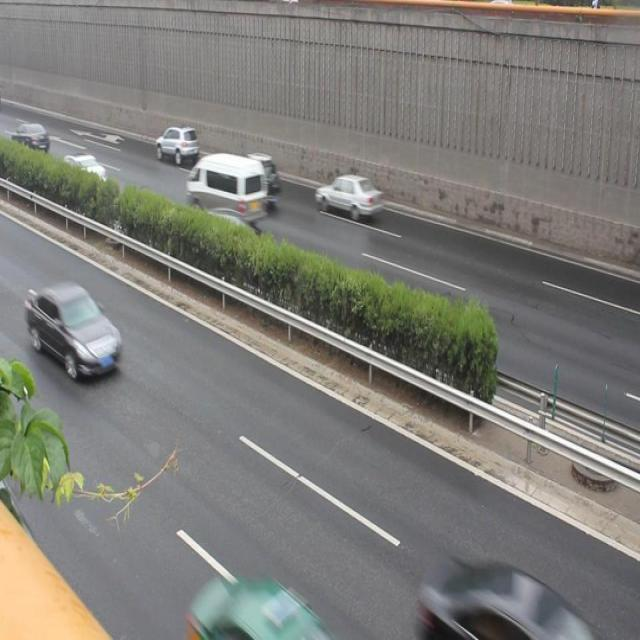car: (28, 285, 123, 378), (178, 208, 264, 270), (313, 170, 383, 220), (55, 154, 108, 200), (155, 124, 200, 165)
truck: (186, 154, 267, 225), (223, 152, 283, 205)
